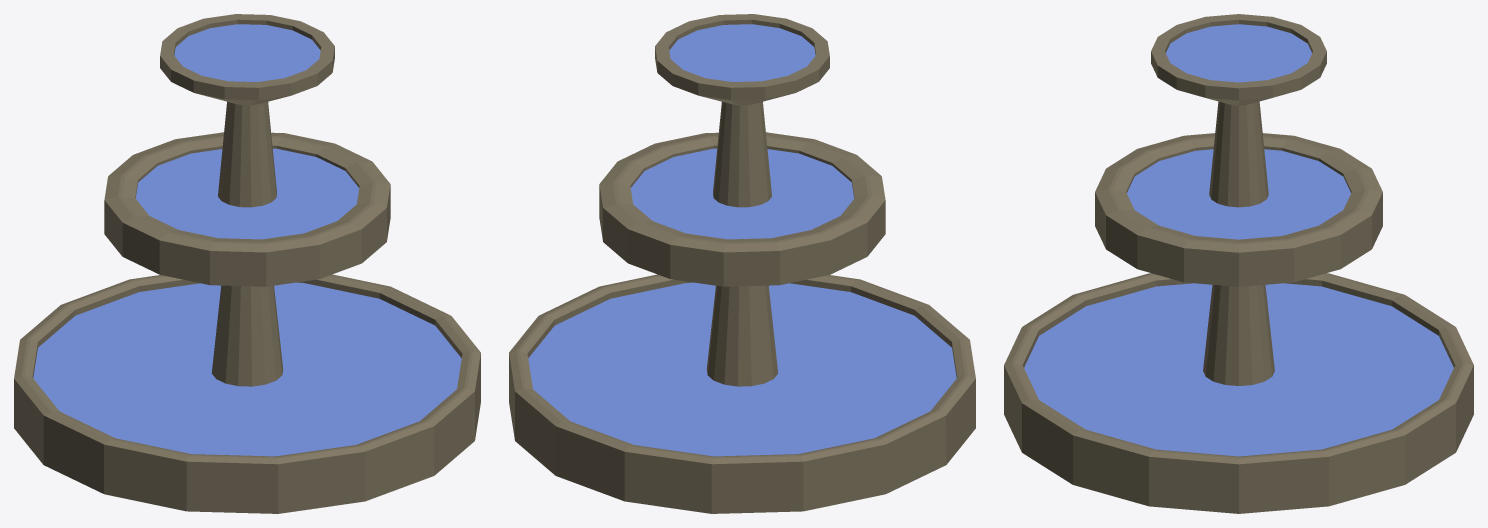
File: fountain.fbx
The picture shows the model from 3 angles, left to right: view 1: azimuth 30°, elevation 25°; view 2: azimuth 150°, elevation 25°; view 3: azimuth 270°, elevation 25°; orthographic projection.
Parts seen in each view (by area): view 1: Цилиндр; view 2: Цилиндр; view 3: Цилиндр.
Boxes of the visible parts, left/top/right/bottom form: Цилиндр: left=14, top=14, right=480, bottom=513; Цилиндр: left=509, top=14, right=975, bottom=513; Цилиндр: left=1004, top=14, right=1473, bottom=513.
Size of the model in its own units: 800 by 683 by 800.
